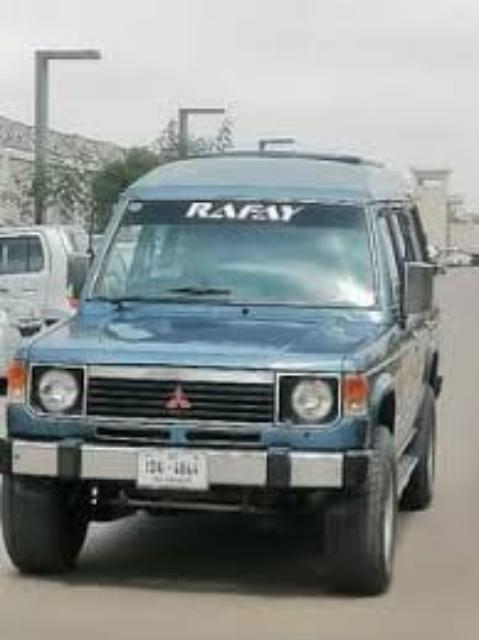plate: (134, 452, 208, 489)
